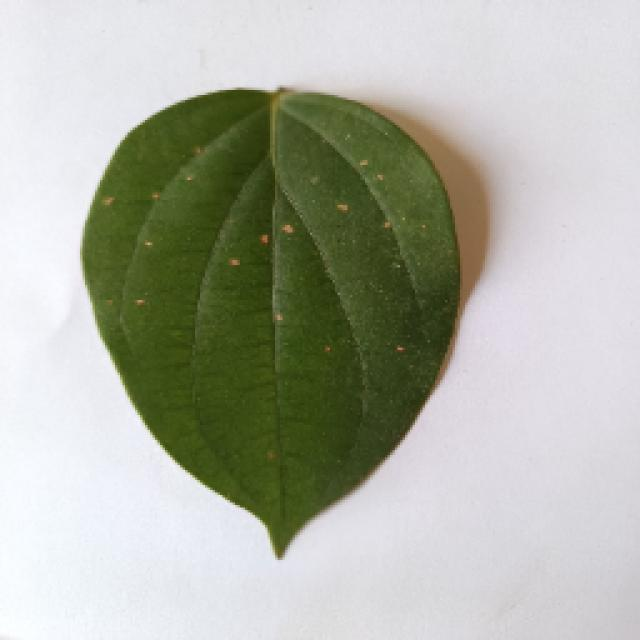pollu-disease: (65, 85, 470, 553)
